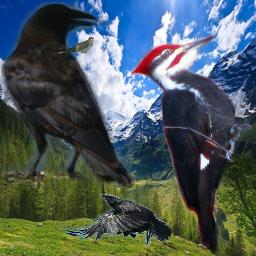Crow: (1, 2, 136, 193), (62, 193, 171, 246)
Cuckoo: (51, 36, 94, 55)
Woodpecker: (131, 35, 252, 252)
